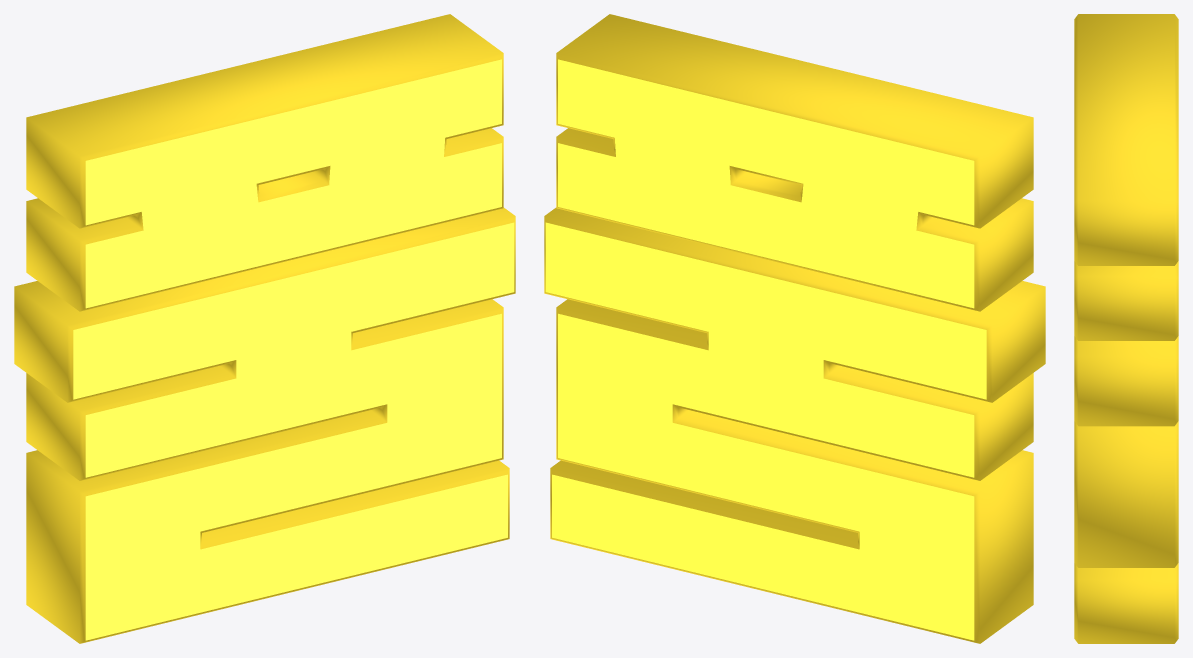
3 views of the same model, side by side, from view 1: azimuth 30°, elevation 25°; view 2: azimuth 150°, elevation 25°; view 3: azimuth 270°, elevation 25° (orthographic). The views are drawn at different scales.
Parts seen in each view (by area): view 1: glyph; view 2: glyph; view 3: glyph.
Part boxes in pixels (x1,y1,x2,y2): glyph: [14, 14, 515, 643]; glyph: [544, 14, 1045, 643]; glyph: [1074, 14, 1178, 643].
Size of the model in its own units: 0.0728 by 0.0757 by 0.0162.
